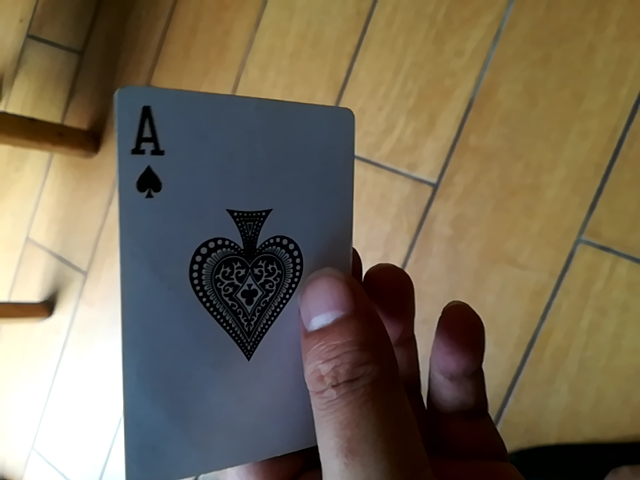ht a: (99, 80, 346, 451)
